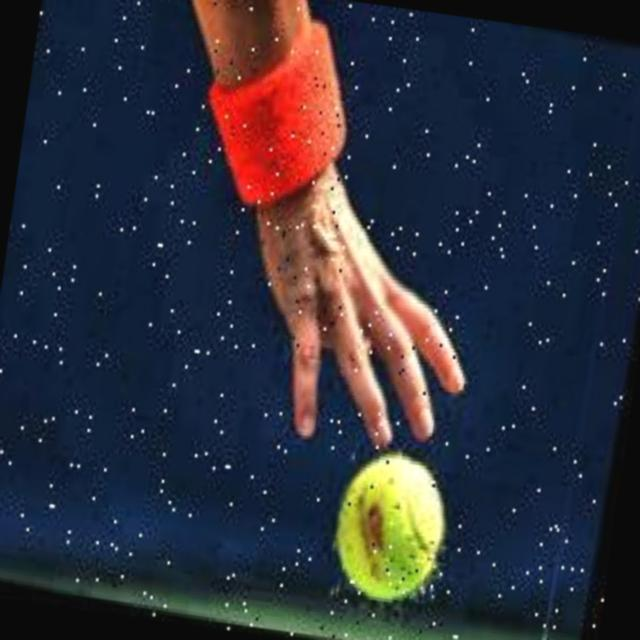Tennis Ball: (326, 442, 465, 620)
